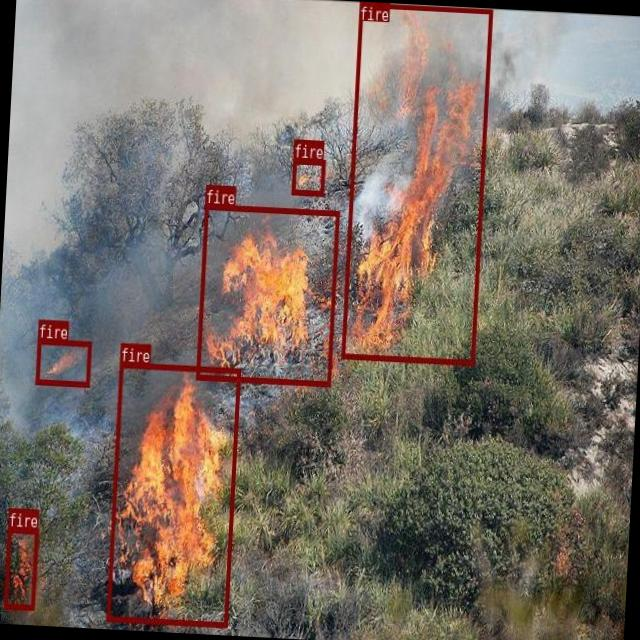fire: (342, 2, 492, 364), (106, 362, 240, 628), (195, 204, 338, 386), (4, 528, 38, 610), (36, 339, 91, 387), (292, 157, 326, 196)
